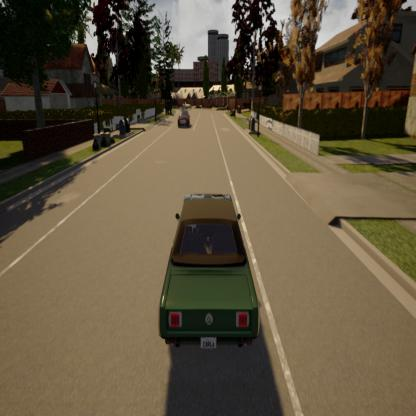Cars: (152, 185, 264, 354), (176, 108, 192, 132)
